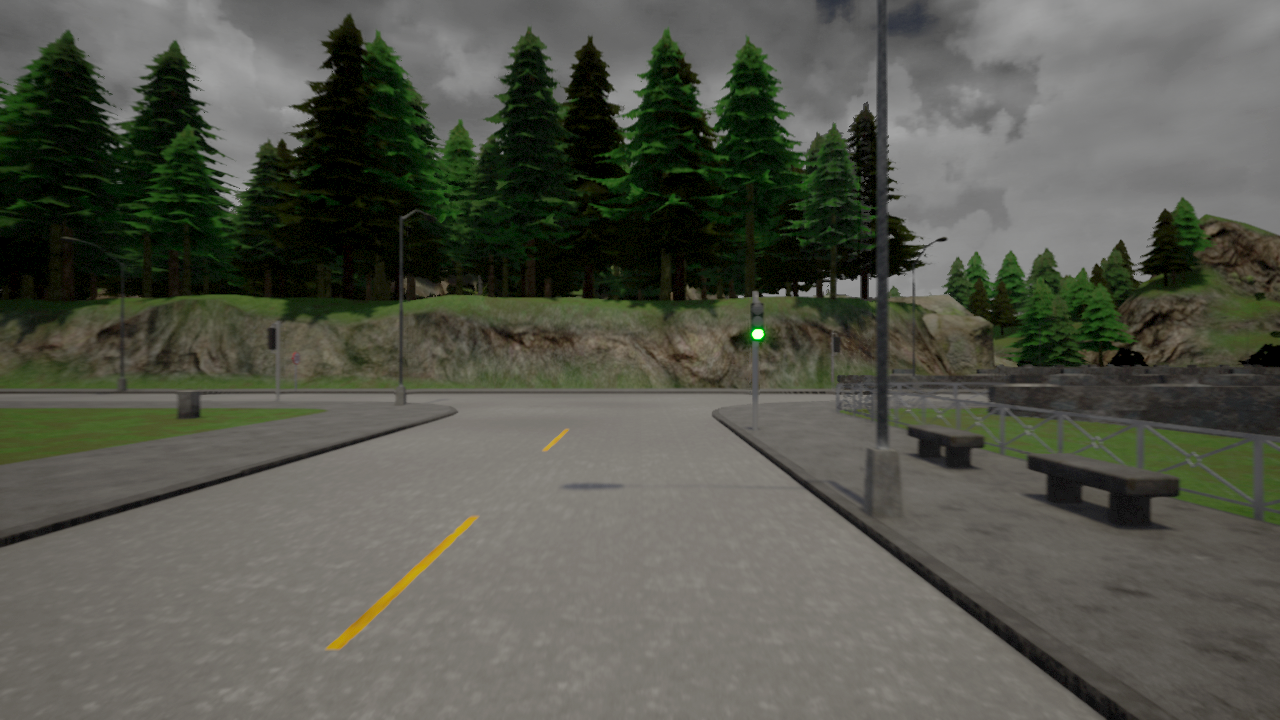green: (748, 302, 767, 341)
